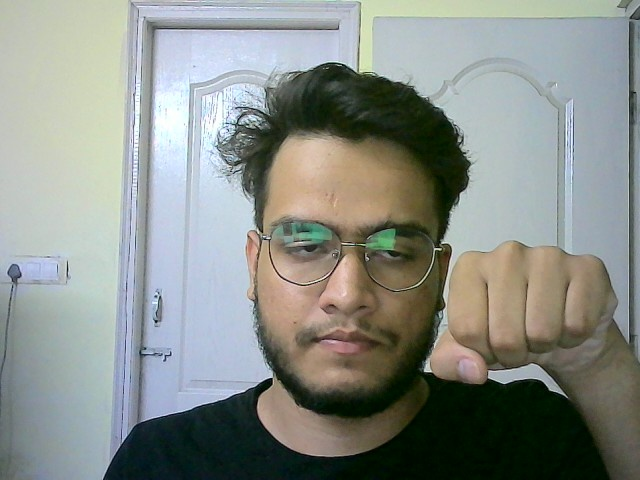Yes: (434, 236, 622, 388)
